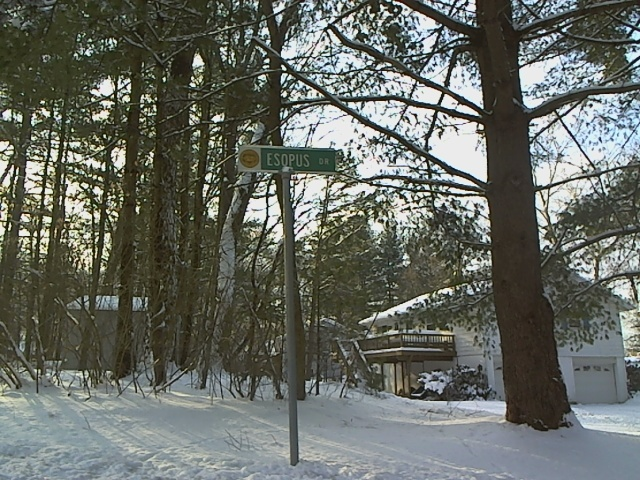Unploughed: (577, 395, 638, 439)
